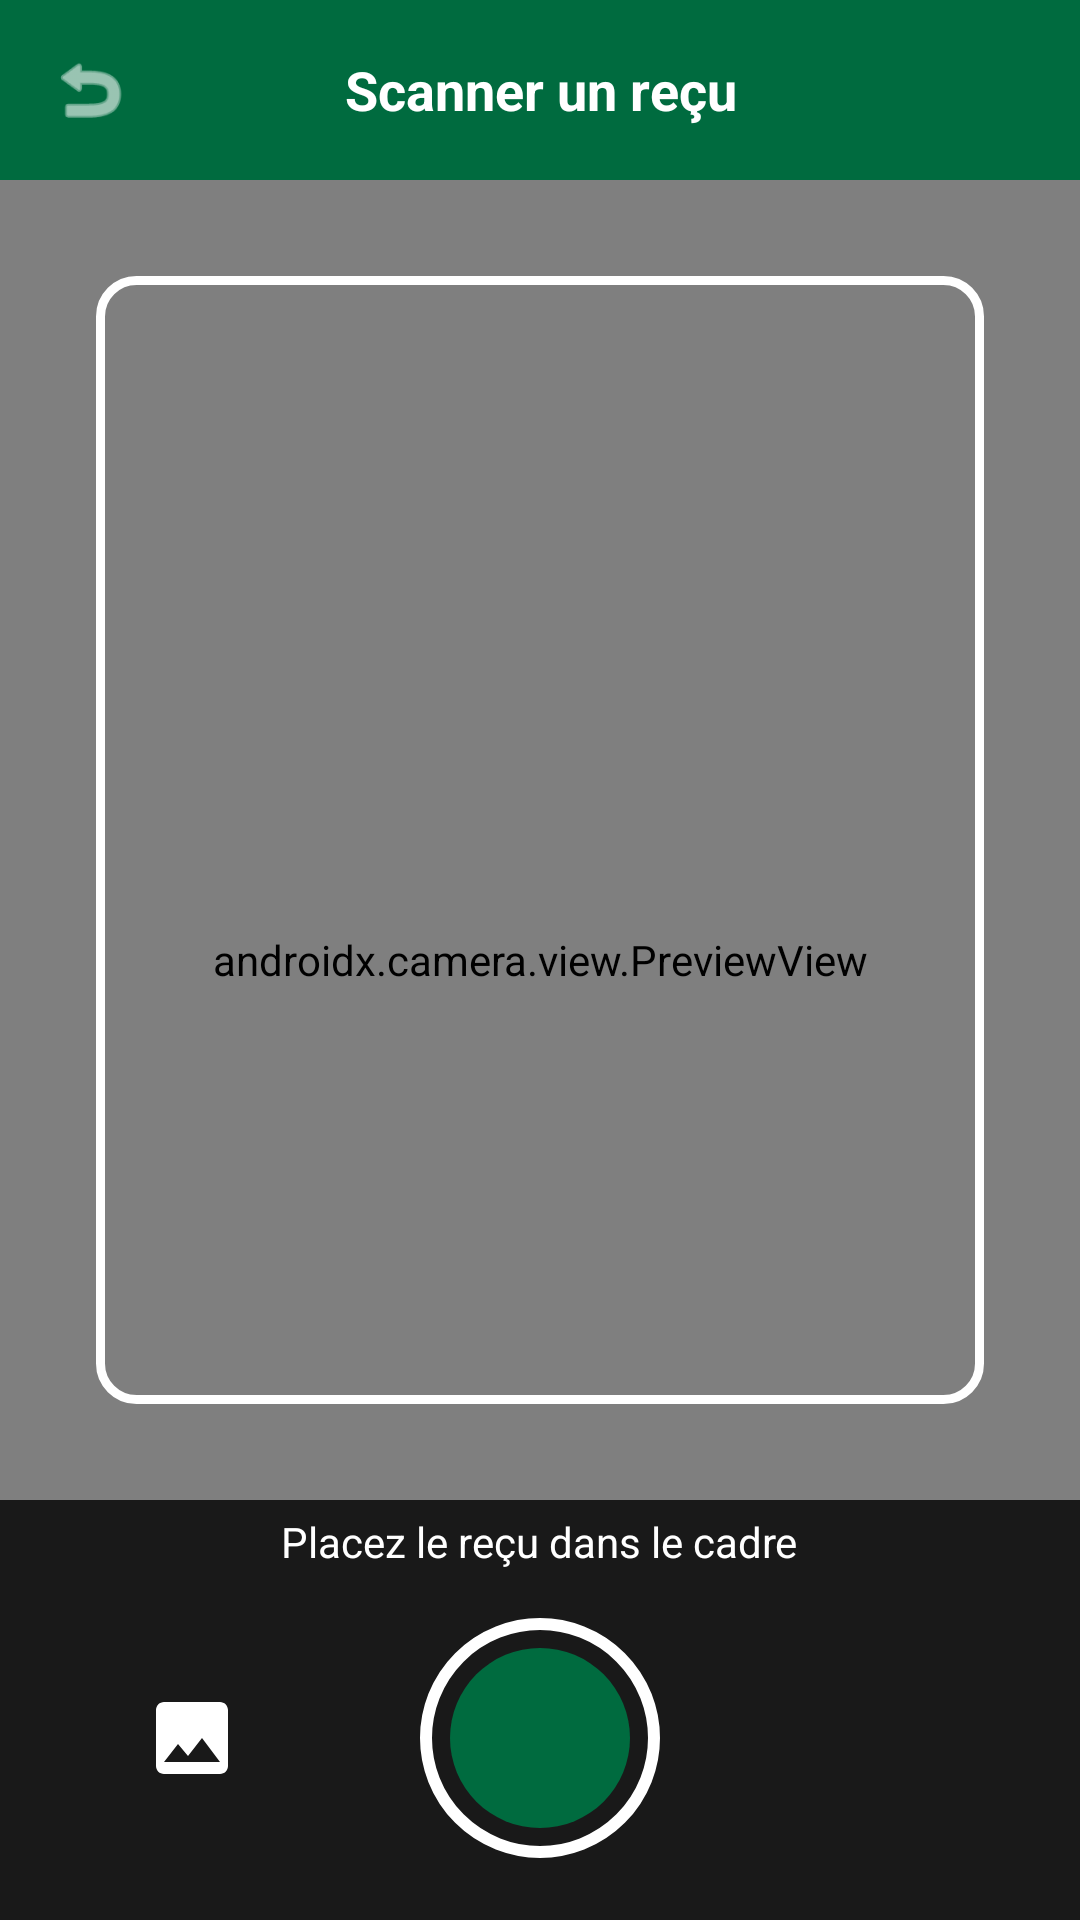

Where to tap for icons on this 1080×1920 app screen, as (x,y):
Bouton de capture: (540,1738)
Galerie / PDF: (192,1738)
Retour: (91,90)
